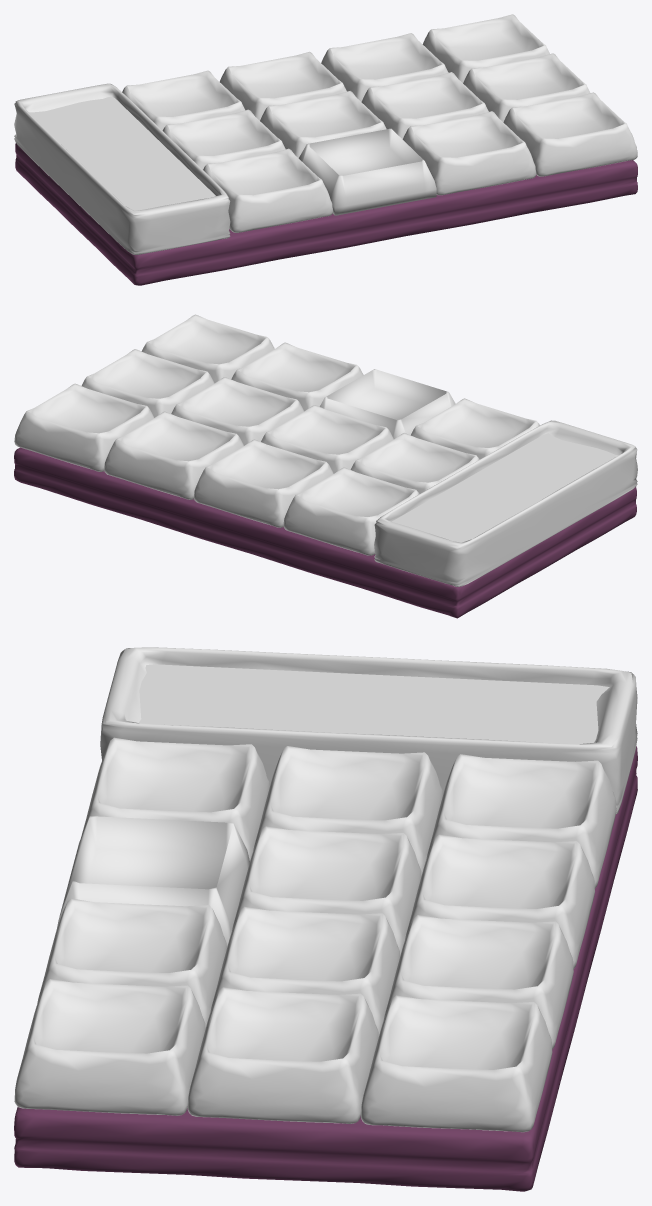
File: uploads_files_5930184_Calculator.fbx
3 renders of one model, top to bottom at view 1: azimuth 30°, elevation 25°; view 2: azimuth 150°, elevation 25°; view 3: azimuth 270°, elevation 25°, orthographic. The views are drawn at different scales.
Parts seen in each view (by area): view 1: Plane, Plane.001, Plane.003, Plane.006, Plane.012, Plane.009, Plane.002, Plane.013, Plane.011, Plane.008, Plane.014, Plane.010 (+3 smaller); view 2: Plane, Plane.001, Plane.003, Plane.008, Plane.014, Plane.011, Plane.005, Plane.006, Plane.012, Plane.013, Plane.007, Plane.010 (+3 smaller); view 3: Plane, Plane.003, Plane.001, Plane.014, Plane.012, Plane.013, Plane.006, Plane.005, Plane.011, Plane.008, Plane.010, Plane.009 (+3 smaller).
Part boxes in pixels (left/top/right/bottom): Plane: left=15, top=143, right=637, bottom=285; Plane.001: left=14, top=83, right=230, bottom=254; Plane.003: left=29, top=96, right=215, bottom=210; Plane.006: left=298, top=128, right=436, bottom=215; Plane.012: left=503, top=92, right=637, bottom=176; Plane.009: left=402, top=111, right=536, bottom=195; Plane.002: left=203, top=148, right=332, bottom=232; Plane.013: left=463, top=53, right=590, bottom=122; Plane.011: left=321, top=33, right=448, bottom=101; Plane.008: left=219, top=51, right=346, bottom=120; Plane.014: left=422, top=14, right=549, bottom=82; Plane.010: left=361, top=72, right=488, bottom=138; Plane: left=14, top=447, right=636, bottom=618; Plane.001: left=374, top=420, right=637, bottom=586; Plane.003: left=392, top=433, right=618, bottom=542; Plane.008: left=193, top=439, right=333, bottom=527; Plane.014: left=14, top=383, right=154, bottom=471; Plane.011: left=104, top=411, right=243, bottom=499; Plane.005: left=283, top=467, right=419, bottom=555; Plane.006: left=319, top=369, right=455, bottom=439; Plane.012: left=141, top=314, right=274, bottom=382; Plane.013: left=81, top=349, right=214, bottom=417; Plane.007: left=261, top=405, right=393, bottom=473; Plane.010: left=171, top=377, right=304, bottom=445; Plane: left=14, top=746, right=637, bottom=1191; Plane.003: left=139, top=664, right=609, bottom=744; Plane.001: left=100, top=647, right=637, bottom=813; Plane.014: left=361, top=995, right=552, bottom=1132; Plane.012: left=14, top=979, right=205, bottom=1115; Plane.013: left=187, top=987, right=378, bottom=1123; Plane.006: left=57, top=816, right=249, bottom=947; Plane.005: left=426, top=754, right=616, bottom=888; Plane.011: left=384, top=915, right=573, bottom=1049; Plane.008: left=405, top=834, right=595, bottom=968; Plane.010: left=210, top=906, right=400, bottom=1036; Plane.009: left=37, top=898, right=226, bottom=1027.
Bounding box in the file's own units: 86.09 × 11.85 × 53.46.
